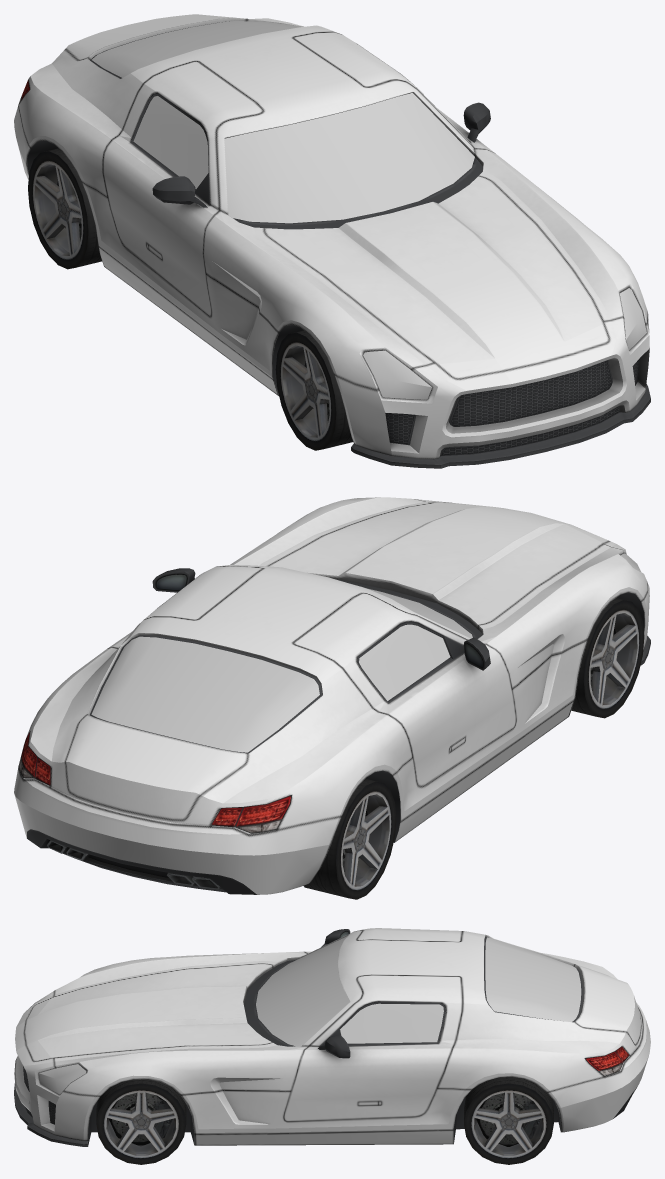
3 views of the same model, one above another, from view 1: azimuth 30°, elevation 25°; view 2: azimuth 150°, elevation 25°; view 3: azimuth 270°, elevation 25° (orthographic). The views are drawn at different scales.
Parts seen in each view (by area): view 1: Body_18, Glass_18, Matte_18, Wheel_R, Wheel_Back_R, Glass_Light; view 2: Body_18, Glass_18, Matte_18, Wheel_Back_R, Wheel_R, Taillight_18; view 3: Body_18, Glass_18, Matte_18, Wheel_Back_L, Wheel_L, break_L, Glass_Light, Taillight_18.
Boxes of the visible parts, left/top/right/bottom form: Body_18: left=14, top=14, right=649, bottom=459; Glass_18: left=91, top=21, right=474, bottom=223; Matte_18: left=27, top=21, right=650, bottom=468; Wheel_R: left=275, top=330, right=353, bottom=450; Wheel_Back_R: left=28, top=148, right=101, bottom=269; Glass_Light: left=363, top=288, right=646, bottom=399; Body_18: left=14, top=497, right=649, bottom=894; Glass_18: left=91, top=588, right=472, bottom=752; Matte_18: left=27, top=568, right=650, bottom=894; Wheel_Back_R: left=303, top=778, right=396, bottom=899; Wheel_R: left=571, top=598, right=644, bottom=718; Taillight_18: left=18, top=731, right=292, bottom=833; Body_18: left=14, top=928, right=650, bottom=1145; Glass_18: left=256, top=936, right=581, bottom=1046; Matte_18: left=14, top=929, right=637, bottom=1146; Wheel_Back_L: left=464, top=1077, right=553, bottom=1164; Wheel_L: left=96, top=1079, right=186, bottom=1164; break_L: left=108, top=1093, right=172, bottom=1146; Glass_Light: left=39, top=1064, right=86, bottom=1094; Taillight_18: left=584, top=1046, right=629, bottom=1076.
Size of the model in its own units: 81.26 by 48.11 by 182.
